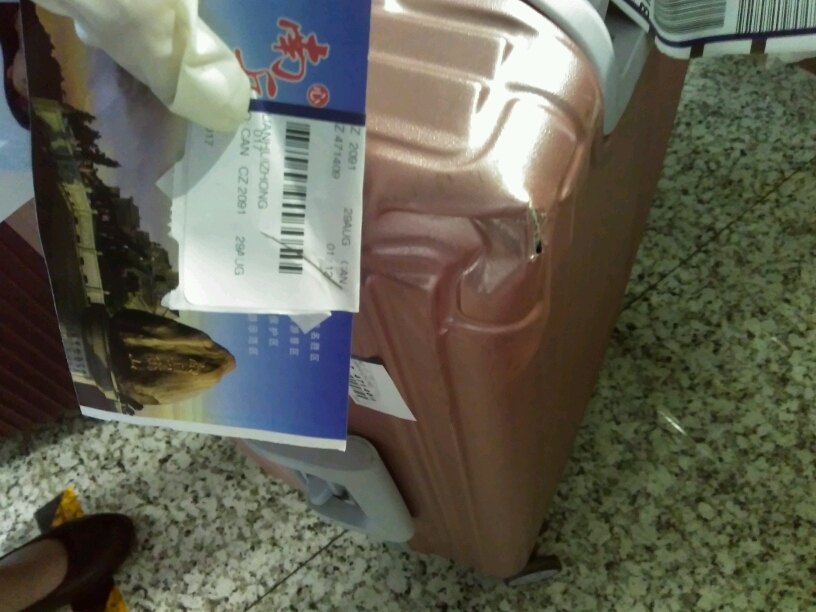rupture: (378, 195, 546, 300)
